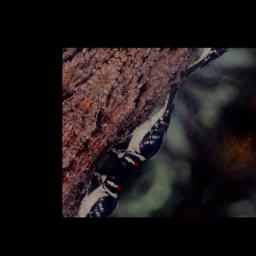Woodpecker: (104, 77, 199, 178)
